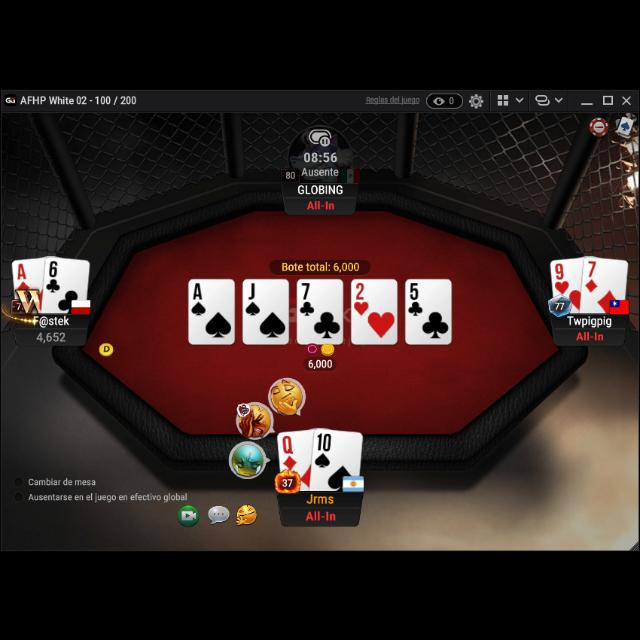2h: (352, 280, 370, 316)
5c: (407, 280, 425, 316), (408, 280, 424, 316)
6c: (46, 259, 62, 293)
7c: (298, 280, 316, 316)
7d: (582, 258, 600, 292)
9h: (553, 260, 571, 294)
Ad: (15, 260, 32, 288)
As: (190, 278, 208, 316), (190, 279, 208, 315)
Js: (244, 280, 262, 316)
Qd: (282, 432, 300, 470)
Ts: (313, 428, 333, 467)
all_in_symbol: (304, 504, 338, 520), (306, 196, 336, 210), (576, 328, 604, 340)
bet_text: (306, 354, 334, 368)
dealer: (97, 338, 115, 356)
pot_text: (281, 260, 361, 270)
stack_text: (36, 328, 66, 342)
